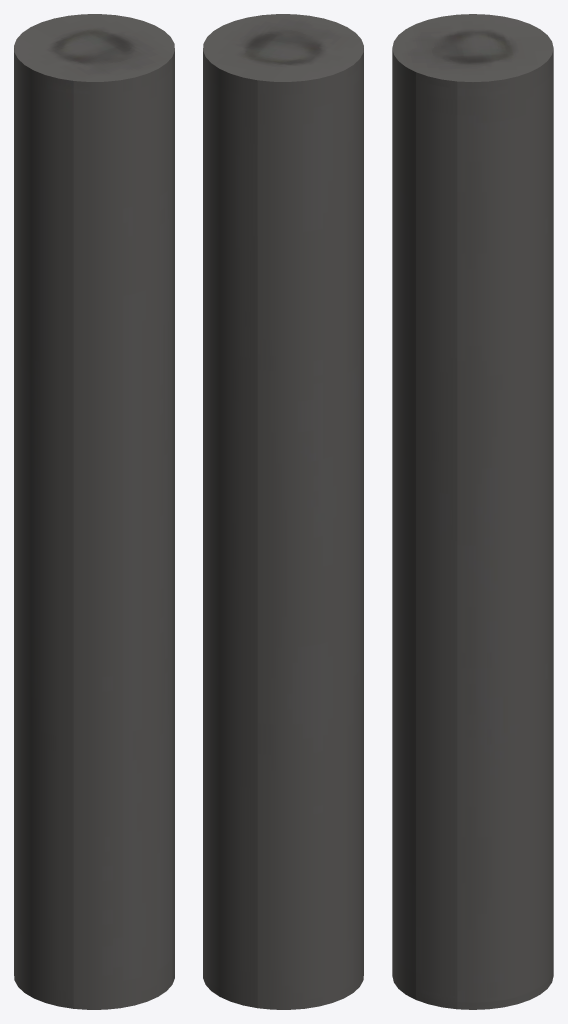
Rendered from support_arm__lower_pivot_barrel.glb.
The picture shows the model from 3 angles, left to right: view 1: azimuth 30°, elevation 25°; view 2: azimuth 150°, elevation 25°; view 3: azimuth 270°, elevation 25°; orthographic projection.
Parts seen in each view (by area): view 1: world; view 2: world; view 3: world.
Part boxes in pixels (x1,y1,x2,y2): world: (14,14,174,1009); world: (203,14,363,1009); world: (392,14,553,1009).
Bounding box in the file's own units: 0.052 × 0.33 × 0.052.
Materials: 1 (1 with a texture image).
